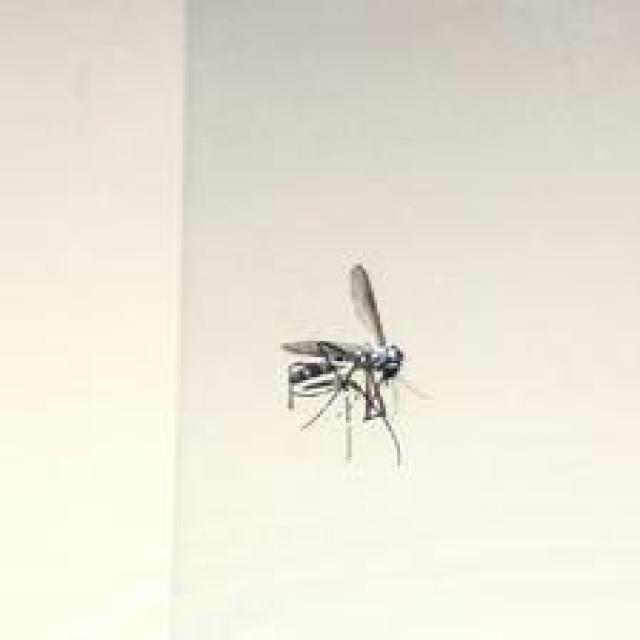Aedes albopictus: (280, 262, 431, 467)
